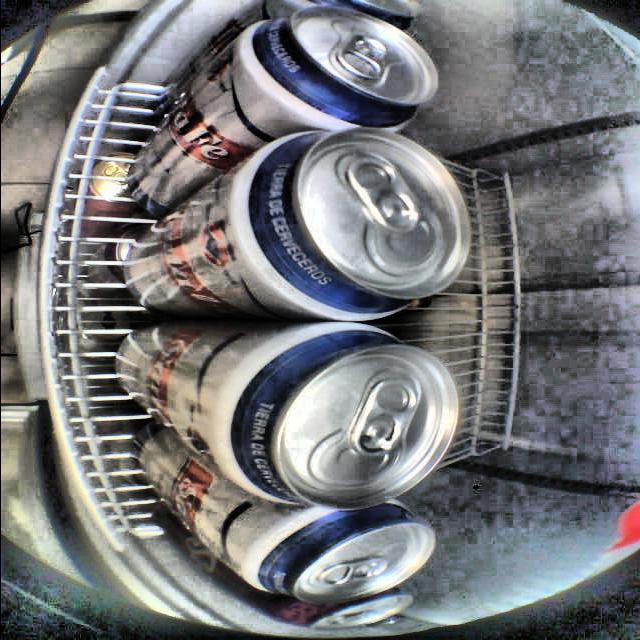Aluminum Can: (99, 309, 481, 514), (116, 9, 443, 231), (109, 128, 475, 325), (124, 451, 441, 612), (162, 0, 426, 70), (294, 590, 415, 640)
